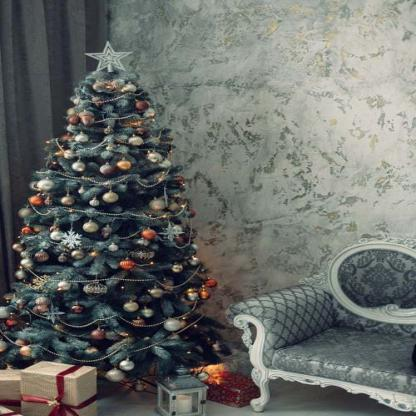present: (9, 363, 116, 415)
x_mas tree: (20, 28, 220, 375)
